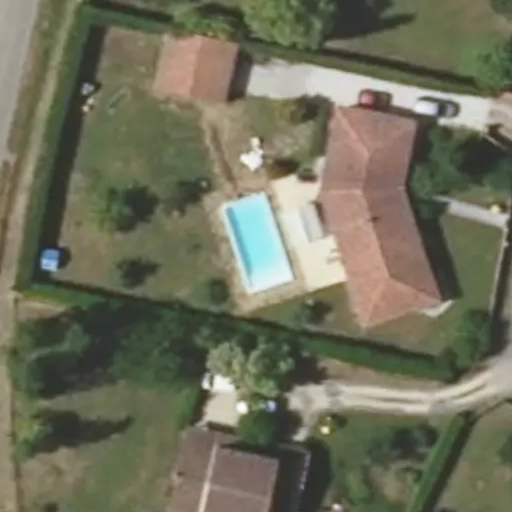pool: (222, 208, 289, 275)
